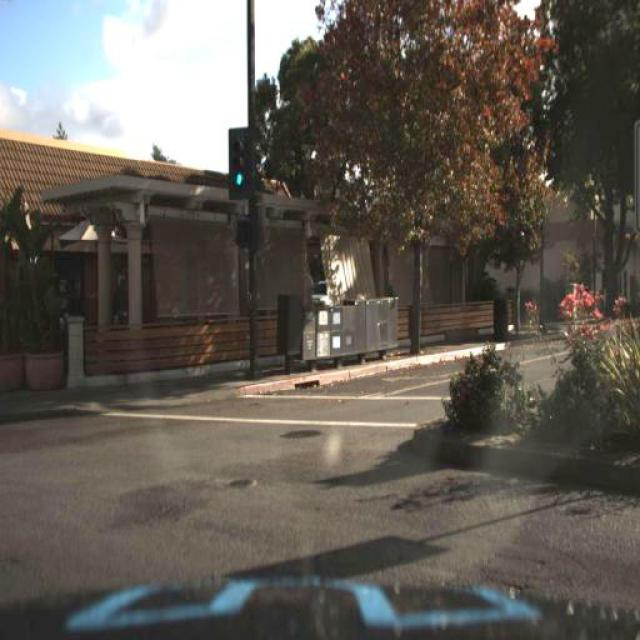semaforo: (229, 128, 254, 198)
